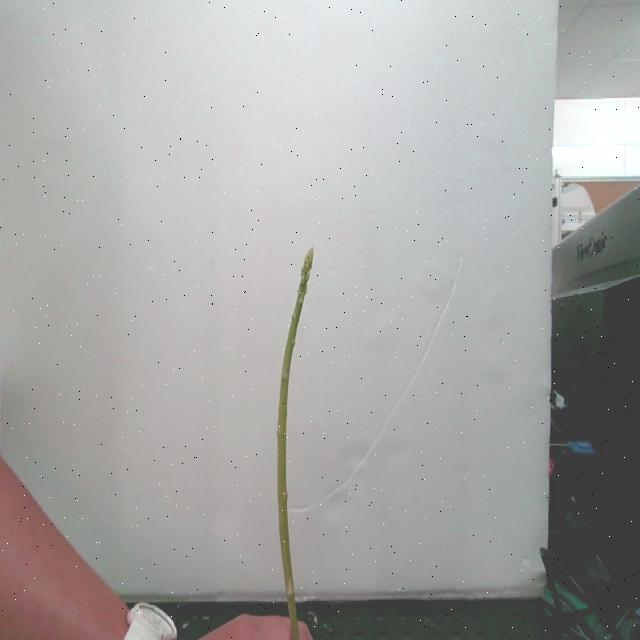aspargus: (279, 250, 317, 640)
